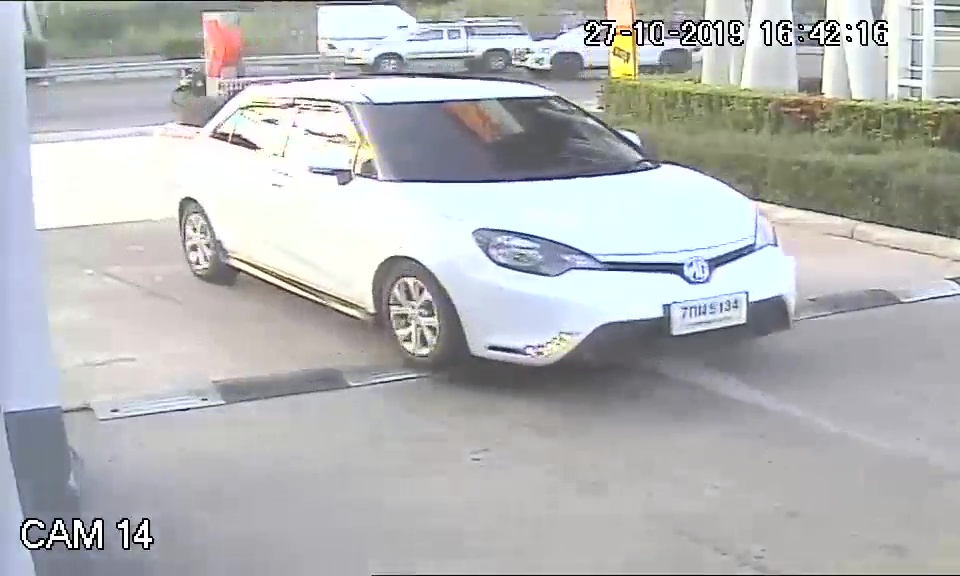sedan: (166, 78, 804, 387)
